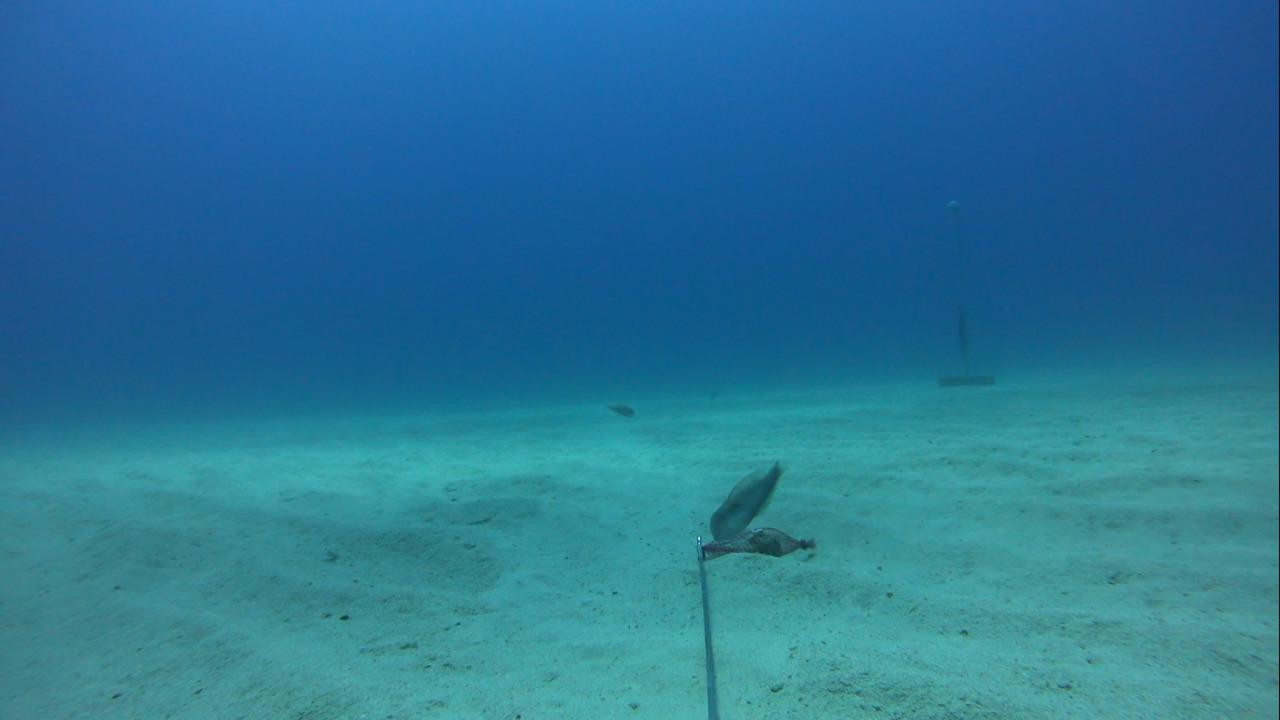raor: (702, 453, 795, 551)
